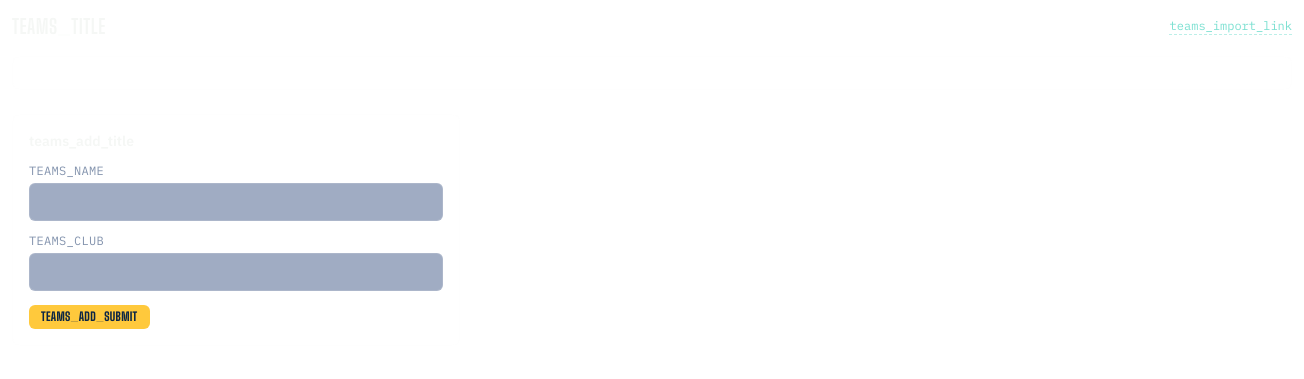
it: TeamsTab › shows an error message when adding a team fails
Step 1. Type "New Team" into the field labelled "teams_name" → (236, 202), box [29,183,443,221]
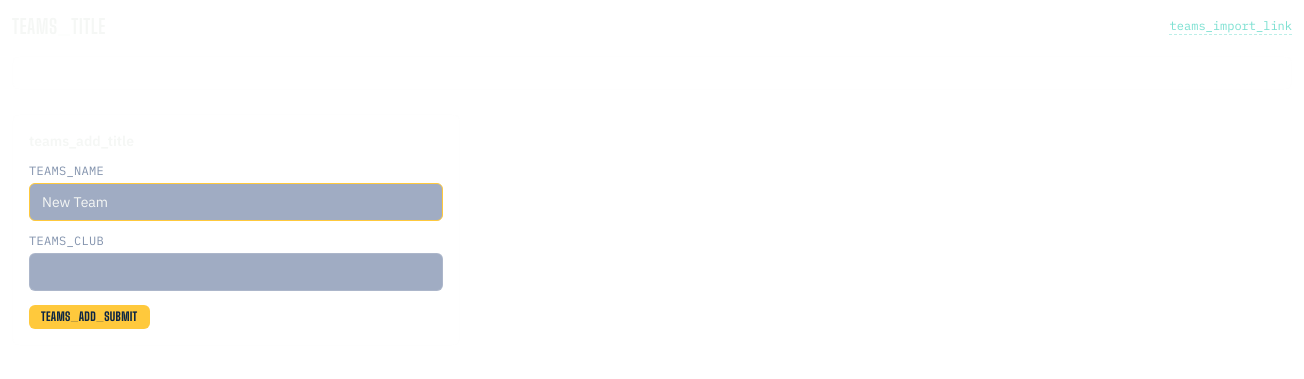
Step 2. Click the button "teams_add_submit" → (89, 317), box [29,305,150,329]
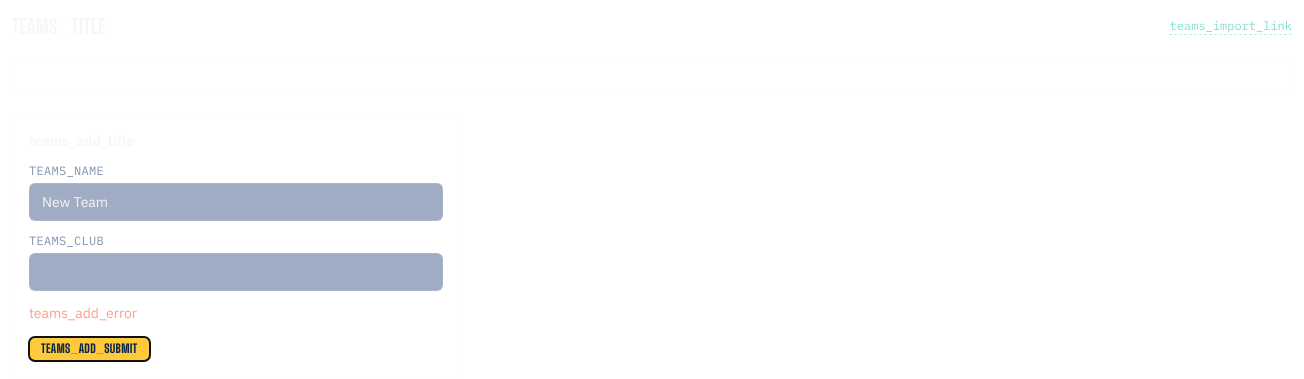
Expected: the message reads "teams_add_error", [29,304,137,322]
